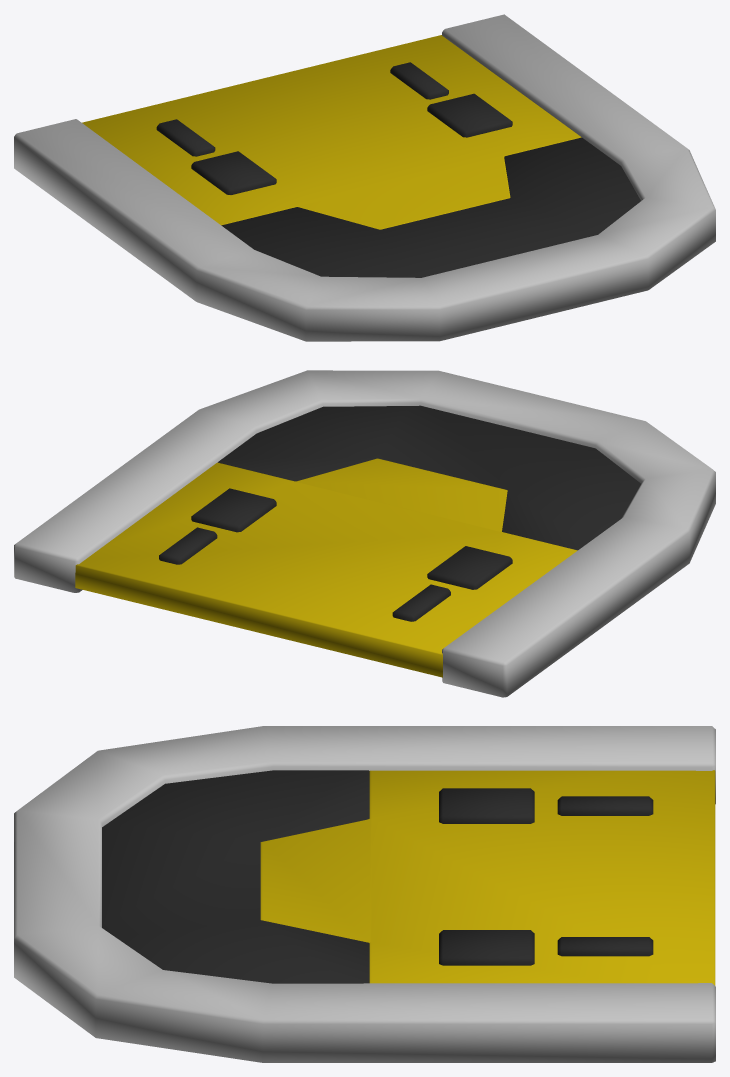
The picture shows the model from 3 angles, top to bottom: view 1: azimuth 30°, elevation 25°; view 2: azimuth 150°, elevation 25°; view 3: azimuth 270°, elevation 25°; orthographic projection. The views are drawn at different scales.
Visible parts, largest first — view 1: Tile_track2.001; view 2: Tile_track2.001; view 3: Tile_track2.001.
Part boxes in pixels (x1,y1,x2,y2): Tile_track2.001: (14, 14, 715, 341); Tile_track2.001: (14, 370, 715, 697); Tile_track2.001: (14, 726, 715, 1062).
Size of the model in its own units: 2.27 by 0.1514 by 2.27.
